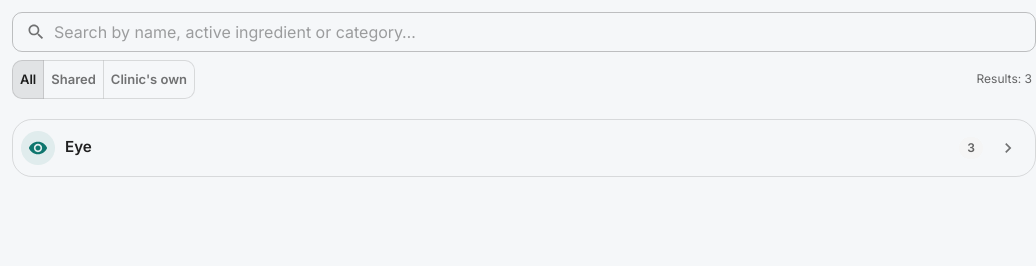
Test case: drug tree: structure and accessible names @area:catalog › in English: "Drug catalog", nodes named "Eye, 3" and "Glaucoma, 2" @CAT-107
Click the list item with aria-label "Eye, 3".
click(38, 148)  # box [17,124,1031,172]
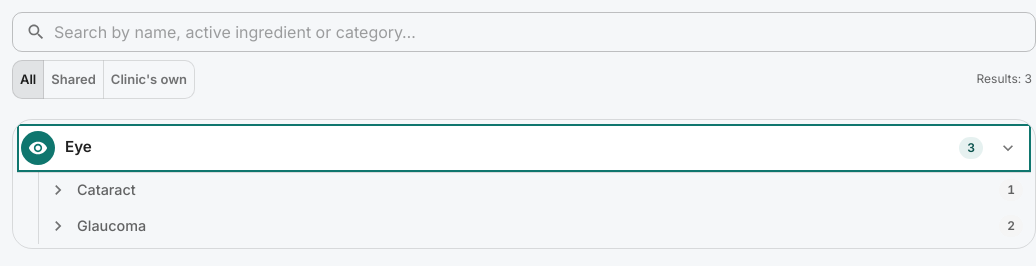
Check: the list item with aria-label "Eye, 3" is expanded, box [17,124,1031,244]
